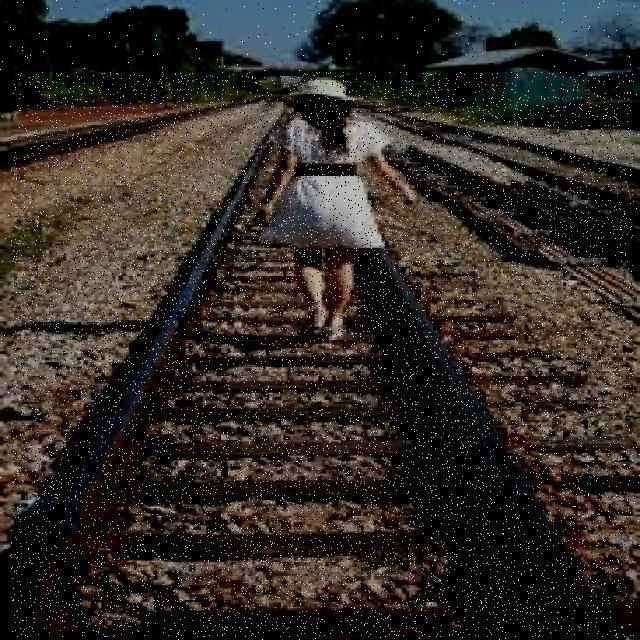danger: (262, 80, 395, 346)
rail: (11, 73, 634, 637)
